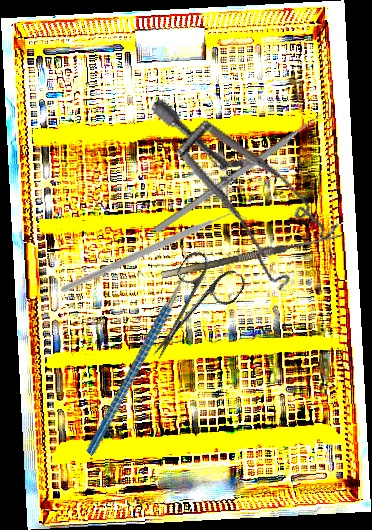Chopper: (30, 248, 245, 457), (60, 154, 248, 355)
Hook Surgical: (158, 223, 345, 279)
Iris Scissors: (130, 244, 249, 377)
Pusher: (153, 103, 336, 235)
Speculum: (110, 96, 359, 302)
